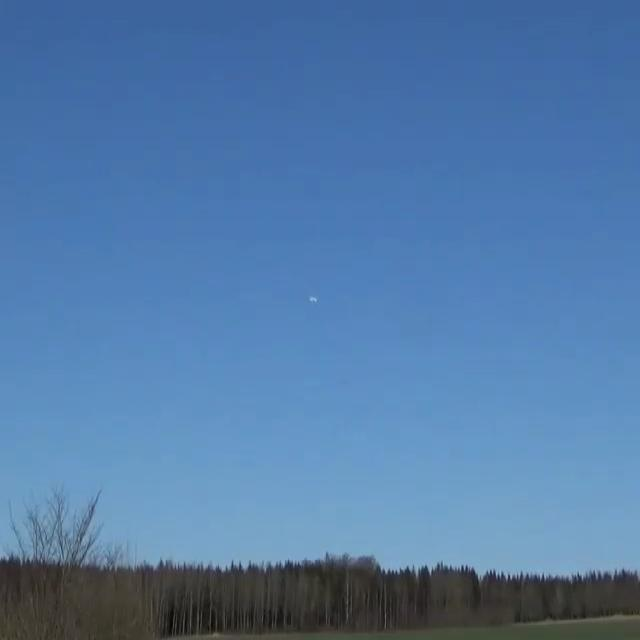Drone: (298, 288, 331, 320)
